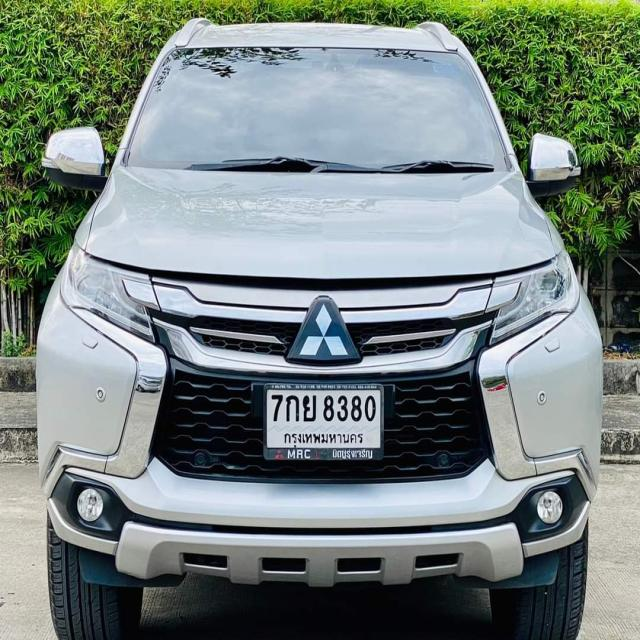license_plate: (263, 380, 388, 471)
